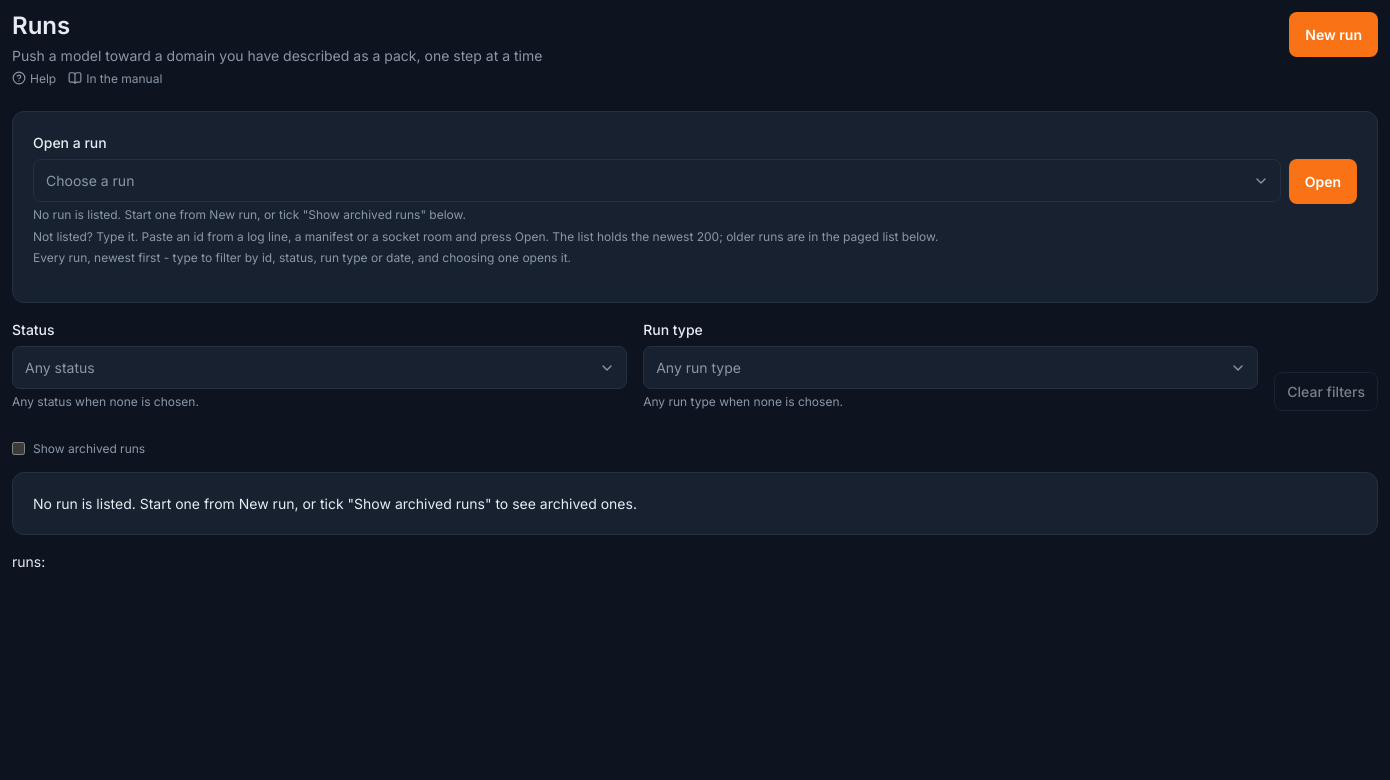
Test: [RunIndexPage] › should say no run is listed when the list is empty, and offer New run
The image size is (1390, 780).
Expected: the text with test id "run-list-empty" shows "No run is listed. Start one from New run", [33,495,637,512]
Expected: the text with test id "run-list-empty" shows "Show archived runs", [33,495,637,512]
Click the checkbox with test id "run-show-archived": click(18, 448) [12,442,25,455]
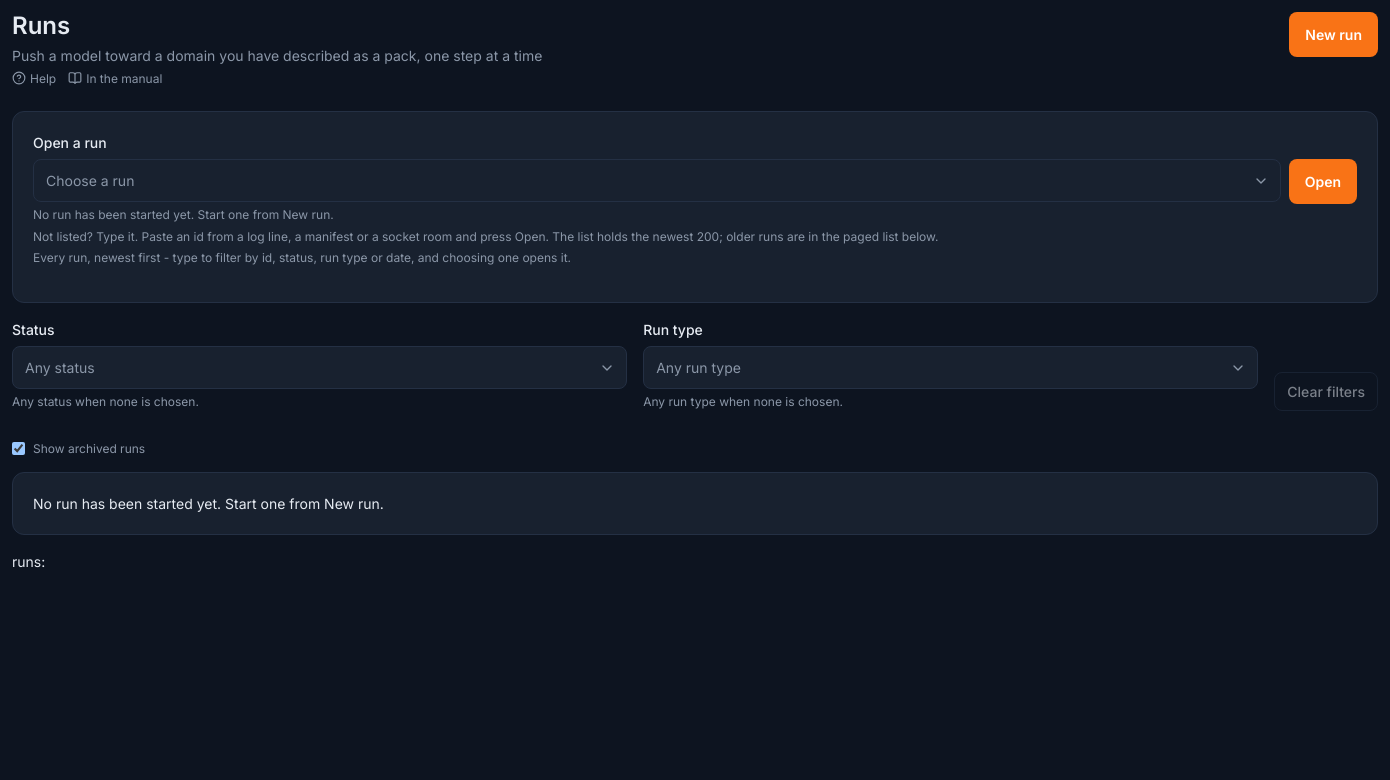
Result: the text with test id "run-list-empty" shows "No run has been started yet" at [33,495,384,512]
